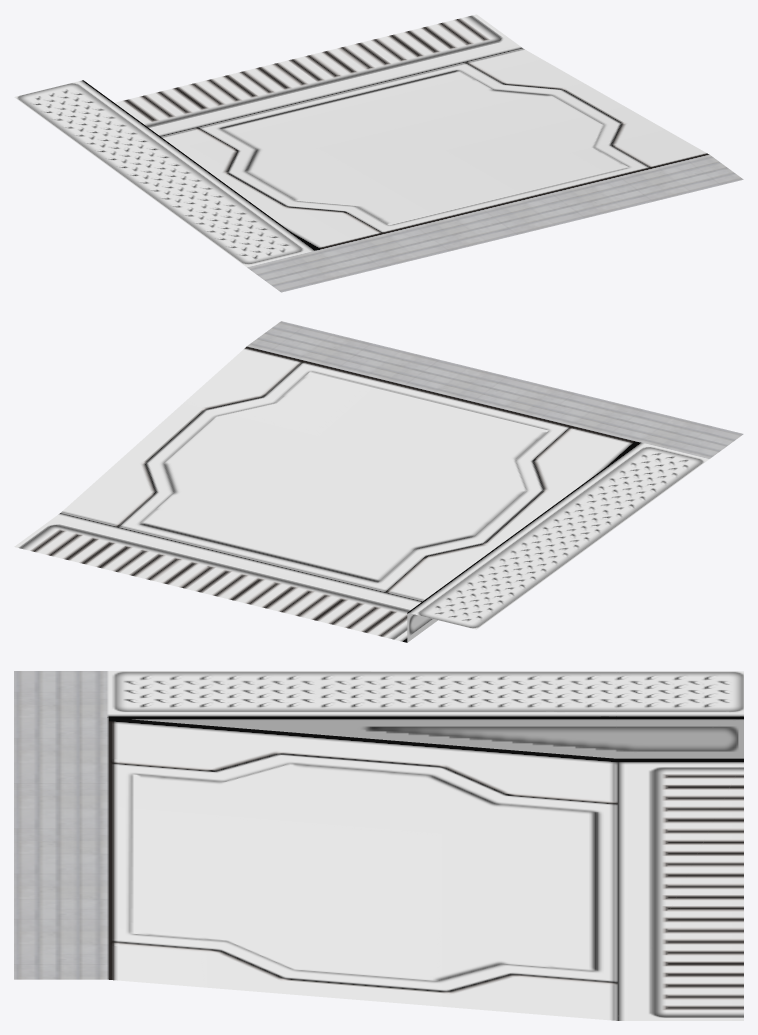
File: Sect_Floor_11b.FBX
3 views of the same model, one above another, from view 1: azimuth 30°, elevation 25°; view 2: azimuth 150°, elevation 25°; view 3: azimuth 270°, elevation 25° (orthographic). The views are drawn at different scales.
Visible parts, largest first — view 1: Floor_11b; view 2: Floor_11b; view 3: Floor_11b.
Boxes of the visible parts, x1=… form: Floor_11b: x1=14, y1=14, x2=743, y2=292; Floor_11b: x1=14, y1=321, x2=743, y2=642; Floor_11b: x1=14, y1=671, x2=743, y2=1020.
Size of the model in its own units: 4 by 0.25 by 4.
